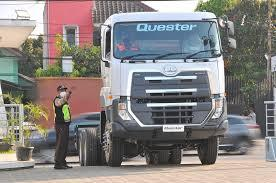truck: (95, 7, 237, 146)
